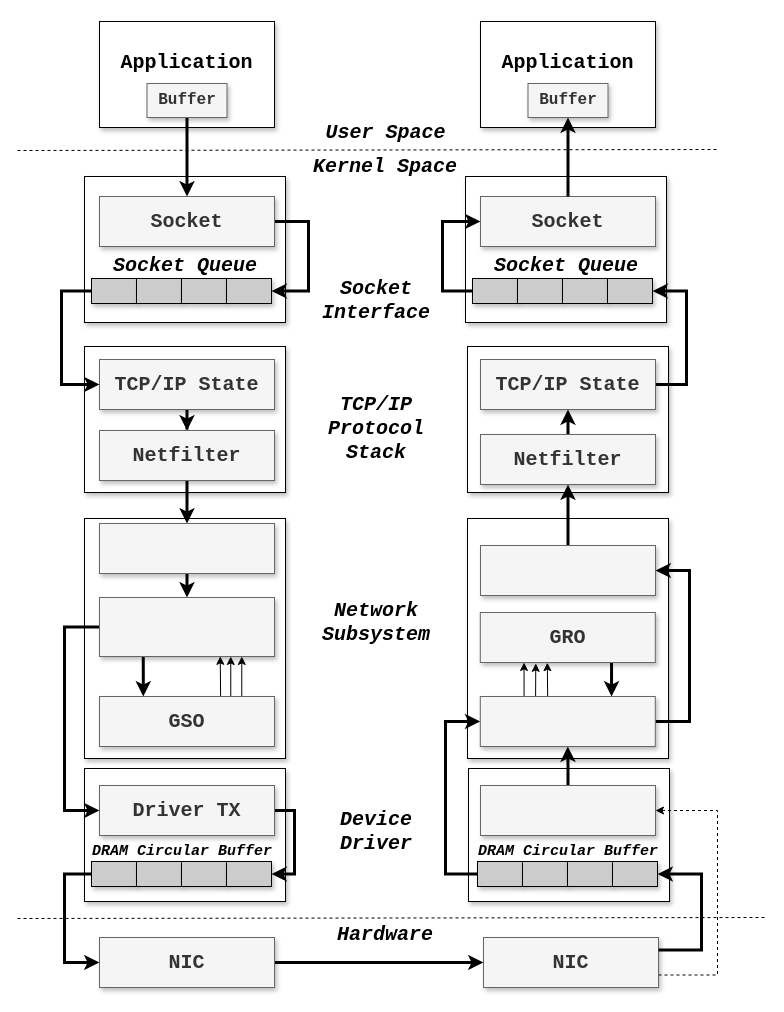
This 784x1012 diagram has some shape labels left out. The centre of each missing label's shape, as x and y in pixels:
IRQ Handler: the point at 569,811
Queueing Discipline: the point at 187,628
RPS/RFS: the point at 569,571
RX NAPI: the point at 568,723
XPS: the point at 187,549
